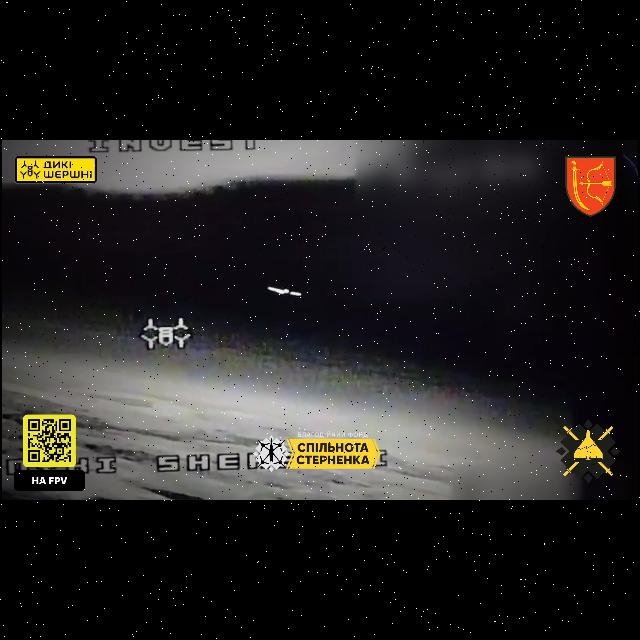Gerbera: (266, 286, 302, 296)
